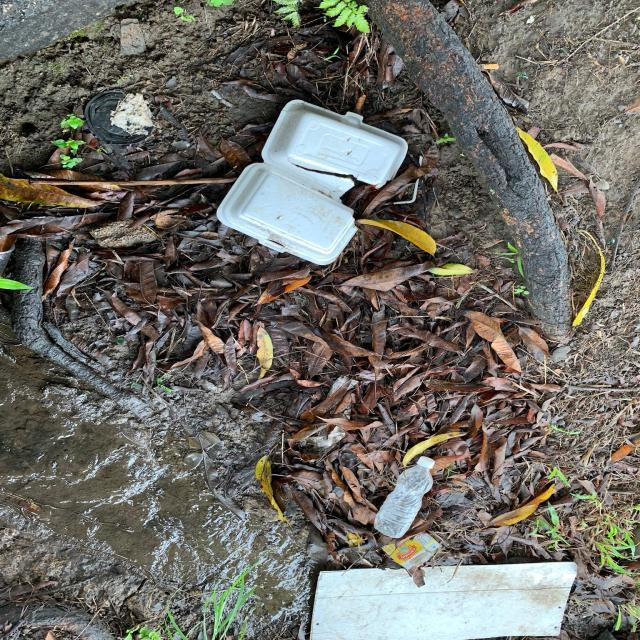litter: (217, 101, 408, 265), (310, 562, 578, 640), (374, 457, 435, 538), (84, 91, 151, 144), (381, 530, 441, 568), (385, 155, 423, 206), (417, 456, 436, 468)
